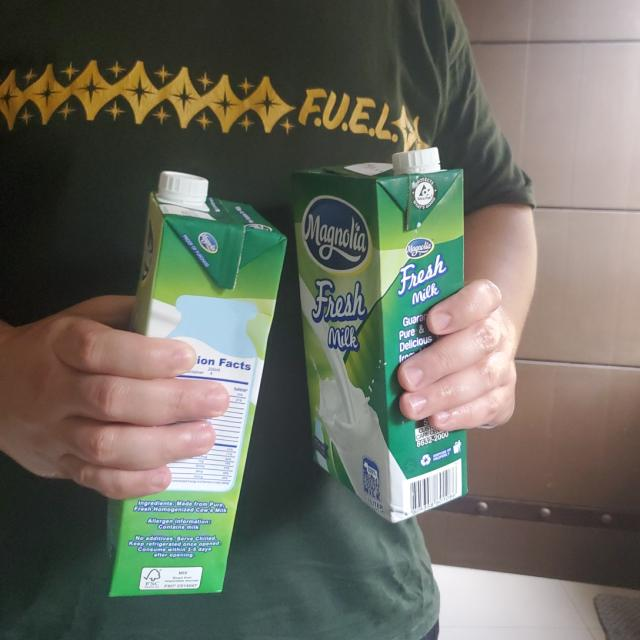milk: (100, 169, 284, 606), (292, 146, 471, 529)
